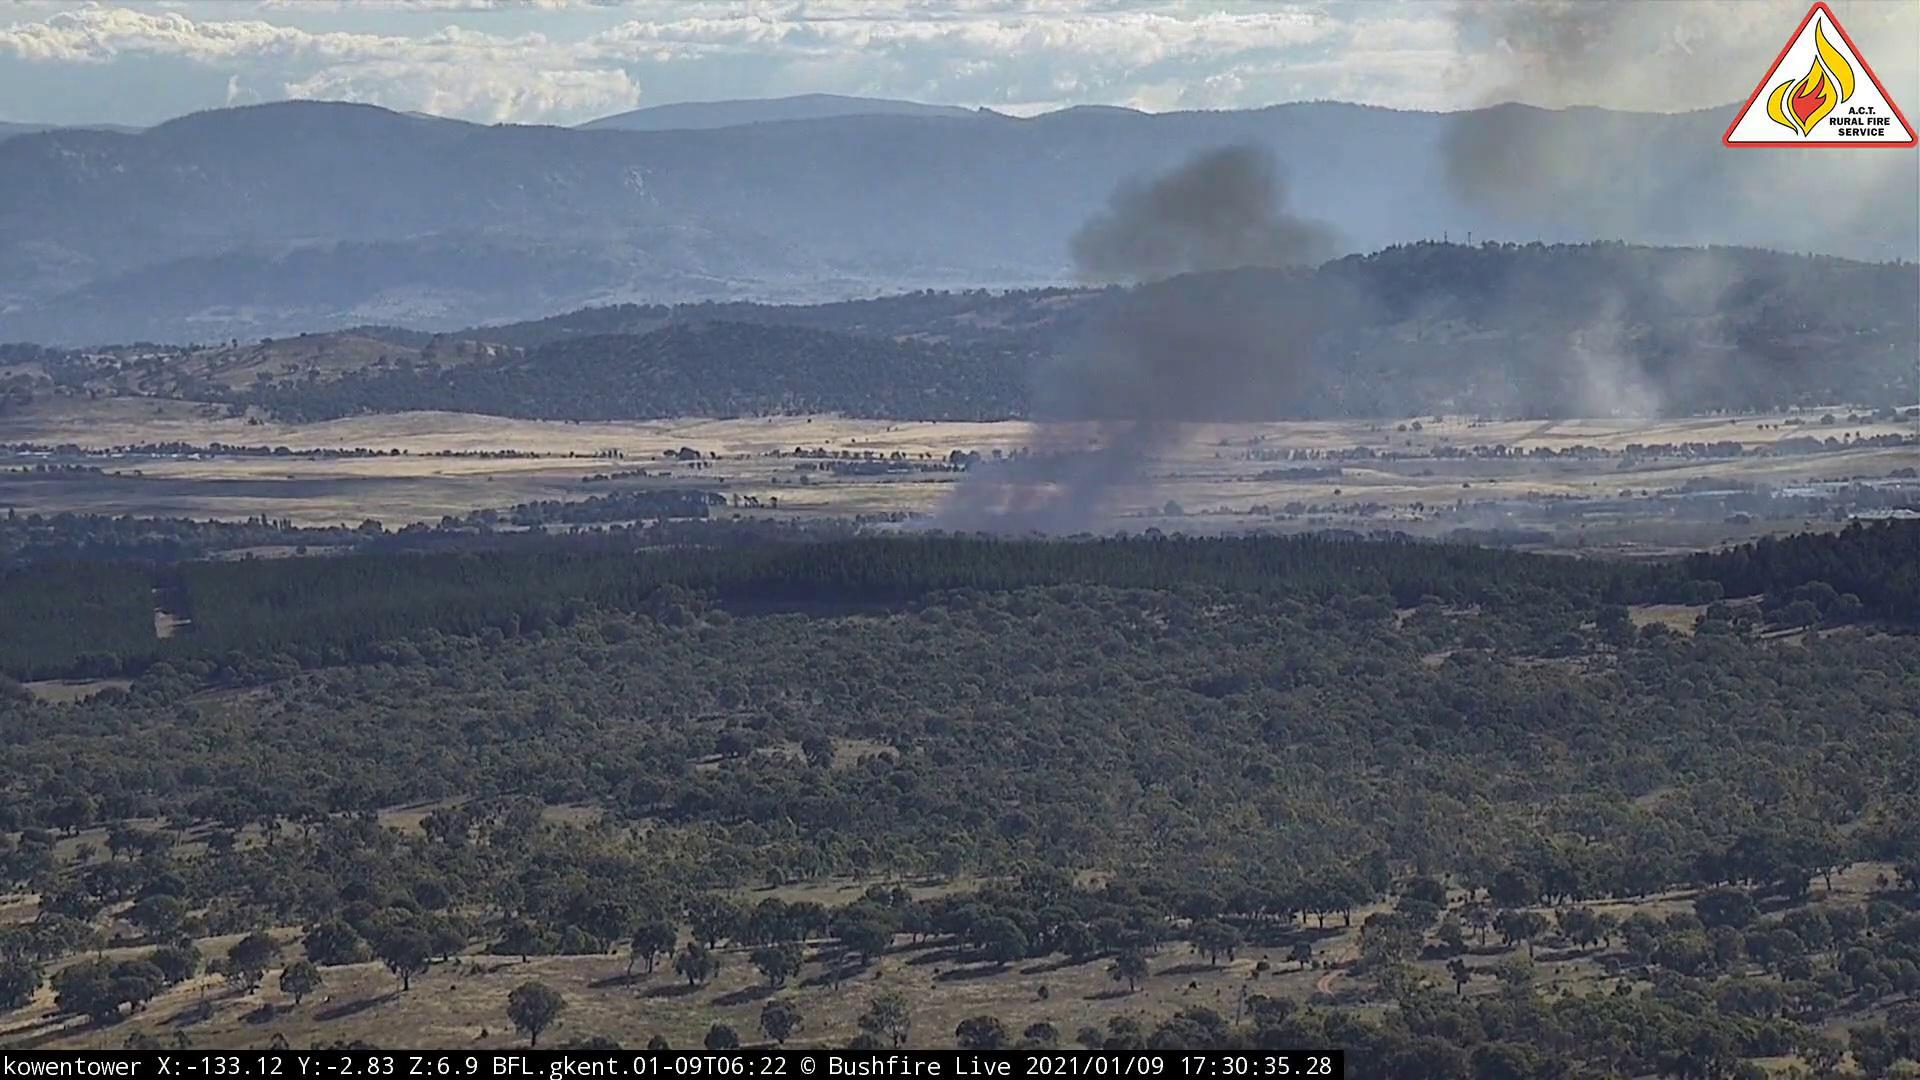Smoke: (895, 62, 1716, 546)
